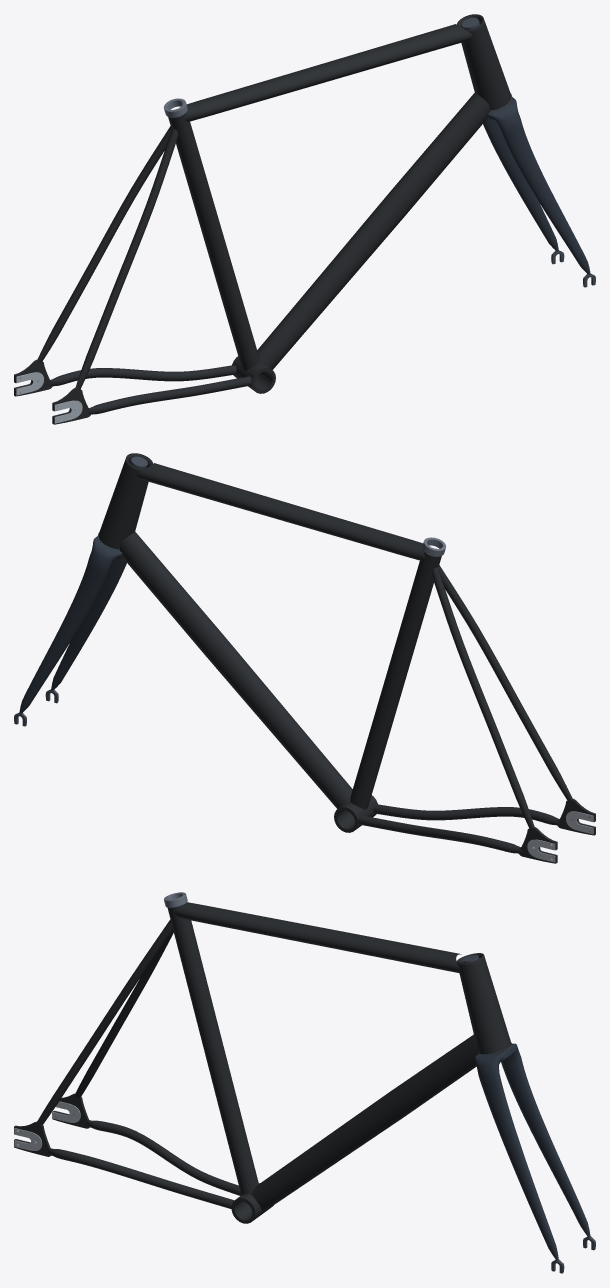
The model's file is 8bar-krzberg-v8-l.glb.
3 views of the same model, one above another, from view 1: azimuth 30°, elevation 25°; view 2: azimuth 150°, elevation 25°; view 3: azimuth 330°, elevation 25° (orthographic).
Visible parts, largest first — view 1: paint_down, paint_top, paint_seat, fork_blade_1, paint_head, paint_seatstay_1, paint_seatstay_-1, fork_blade_-1, paint_chainstay_-1, paint_chainstay_1, paint_bottom_bracket, fork_crown (+2 smaller); view 2: paint_down, paint_top, paint_seat, fork_blade_-1, paint_head, paint_seatstay_-1, paint_seatstay_1, fork_blade_1, paint_chainstay_1, paint_chainstay_-1, paint_bottom_bracket, fork_crown (+2 smaller); view 3: paint_down, paint_seat, paint_top, paint_head, fork_blade_1, fork_blade_-1, paint_seatstay_1, paint_chainstay_1, paint_chainstay_-1, paint_seatstay_-1, fork_crown, paint_bottom_bracket (+2 smaller).
Part boxes in pixels (left/top/right/bottom): paint_down: left=257, top=92, right=489, bottom=369; paint_top: left=184, top=24, right=472, bottom=121; paint_seat: left=168, top=112, right=259, bottom=370; fork_blade_1: left=501, top=120, right=590, bottom=274; paint_head: left=456, top=14, right=511, bottom=110; paint_seatstay_1: left=75, top=128, right=178, bottom=388; paint_seatstay_-1: left=37, top=126, right=171, bottom=363; fork_blade_-1: left=483, top=118, right=558, bottom=251; paint_chainstay_-1: left=49, top=365, right=236, bottom=386; paint_chainstay_1: left=88, top=376, right=251, bottom=414; paint_bottom_bracket: left=232, top=356, right=275, bottom=393; fork_crown: left=487, top=97, right=520, bottom=130; paint_down: left=120, top=532, right=352, bottom=808; paint_top: left=137, top=463, right=425, bottom=560; paint_seat: left=350, top=551, right=441, bottom=809; fork_blade_-1: left=19, top=559, right=108, bottom=713; paint_head: left=98, top=453, right=153, bottom=549; paint_seatstay_-1: left=431, top=567, right=534, bottom=827; paint_seatstay_1: left=438, top=565, right=572, bottom=802; fork_blade_1: left=51, top=557, right=126, bottom=690; paint_chainstay_1: left=373, top=804, right=560, bottom=825; paint_chainstay_-1: left=358, top=815, right=521, bottom=853; paint_bottom_bracket: left=334, top=795, right=377, bottom=832; fork_crown: left=89, top=536, right=122, bottom=569; paint_down: left=251, top=1034, right=478, bottom=1211; paint_seat: left=167, top=905, right=258, bottom=1194; paint_top: left=174, top=902, right=461, bottom=972; paint_head: left=456, top=953, right=511, bottom=1054; fork_blade_1: left=479, top=1073, right=558, bottom=1260; fork_blade_-1: left=501, top=1057, right=590, bottom=1237; paint_seatstay_1: left=37, top=919, right=172, bottom=1125; paint_chainstay_1: left=48, top=1148, right=234, bottom=1208; paint_chainstay_-1: left=86, top=1120, right=241, bottom=1195; paint_seatstay_-1: left=75, top=930, right=173, bottom=1097; fork_crown: left=475, top=1043, right=520, bottom=1076; paint_bottom_bracket: left=231, top=1183, right=273, bottom=1223.
Bounding box in the file's own units: 1.04 × 0.5739 × 0.1464.
